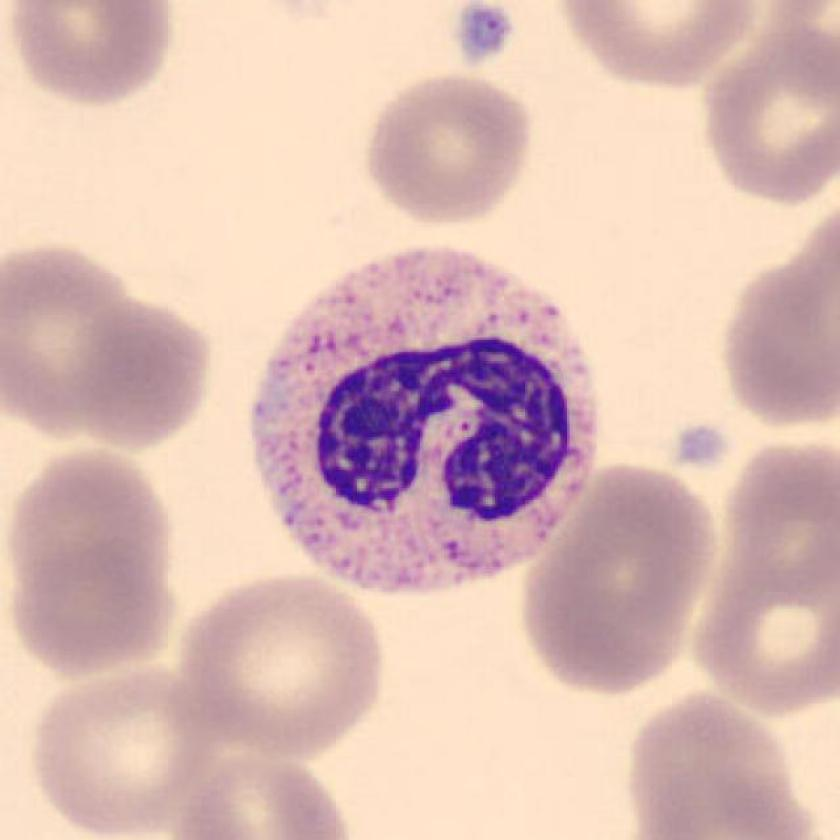neutrophil: (252, 253, 602, 598)
